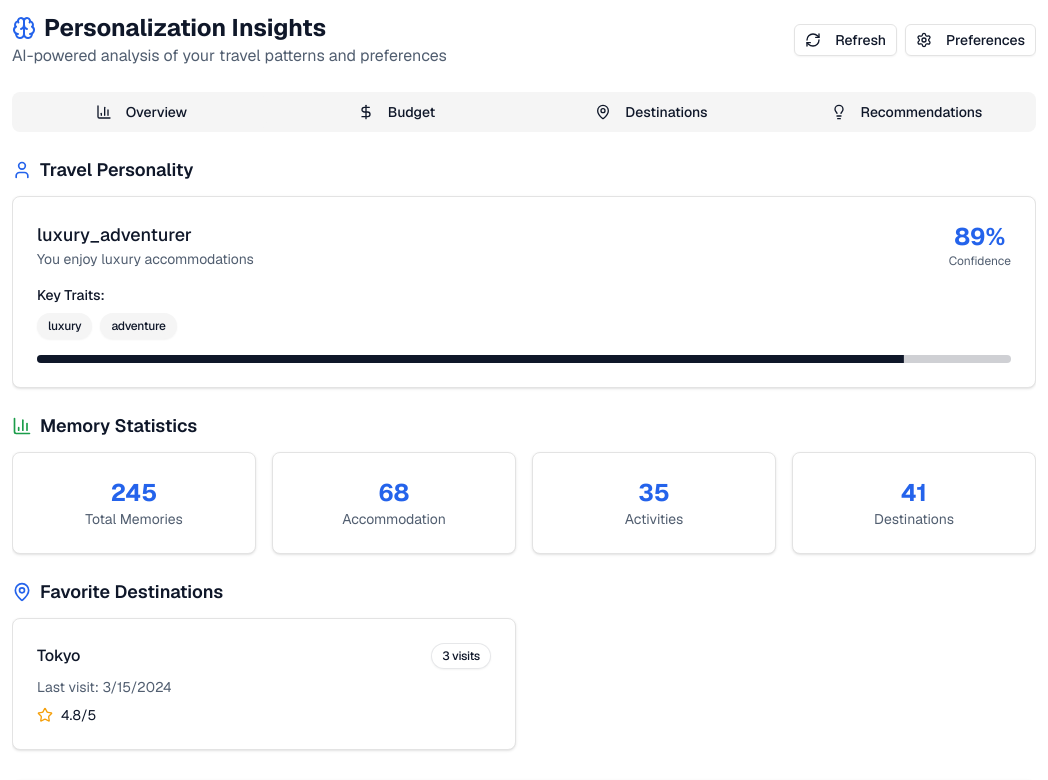
Test: PersonalizationInsights › displays recommendations when recommendations tab is clicked and showRecommendations is true
Click the button "Recommendations": (906, 112) [781,96,1032,128]
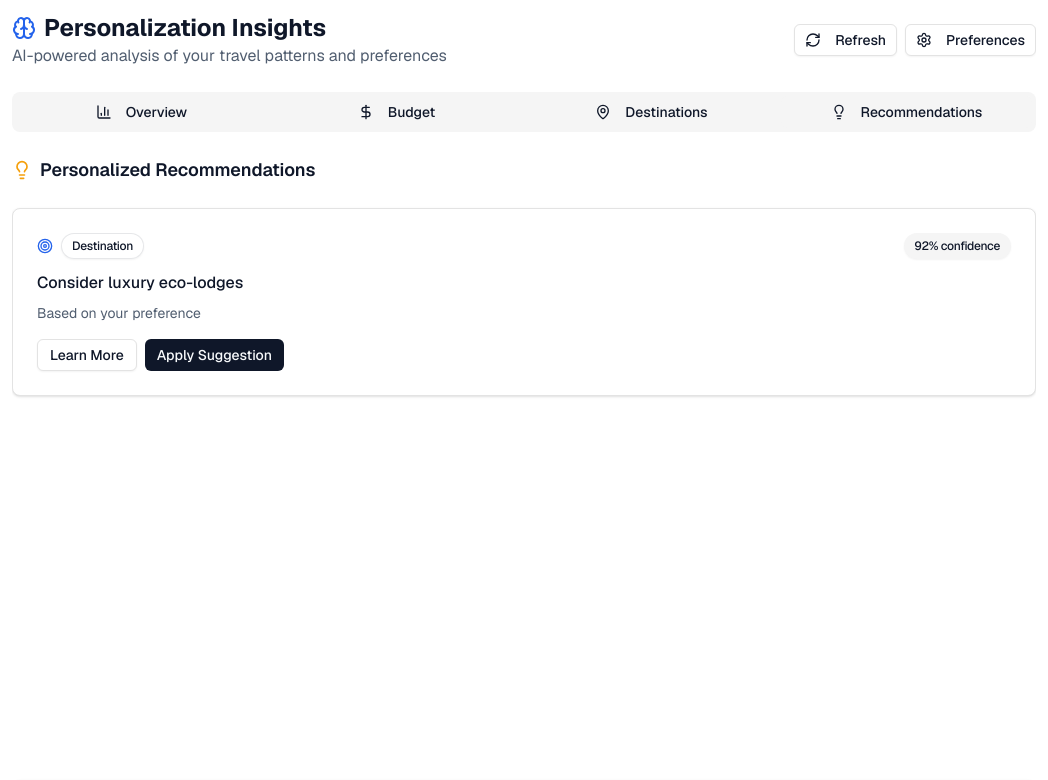
Check: the heading "Consider luxury eco-lodges" is shown, box [37,272,243,293]
